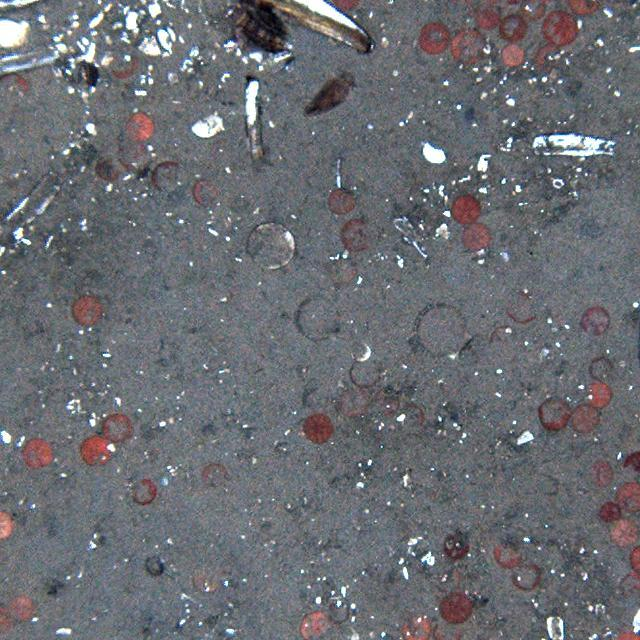scallop: (415, 302, 466, 356)
